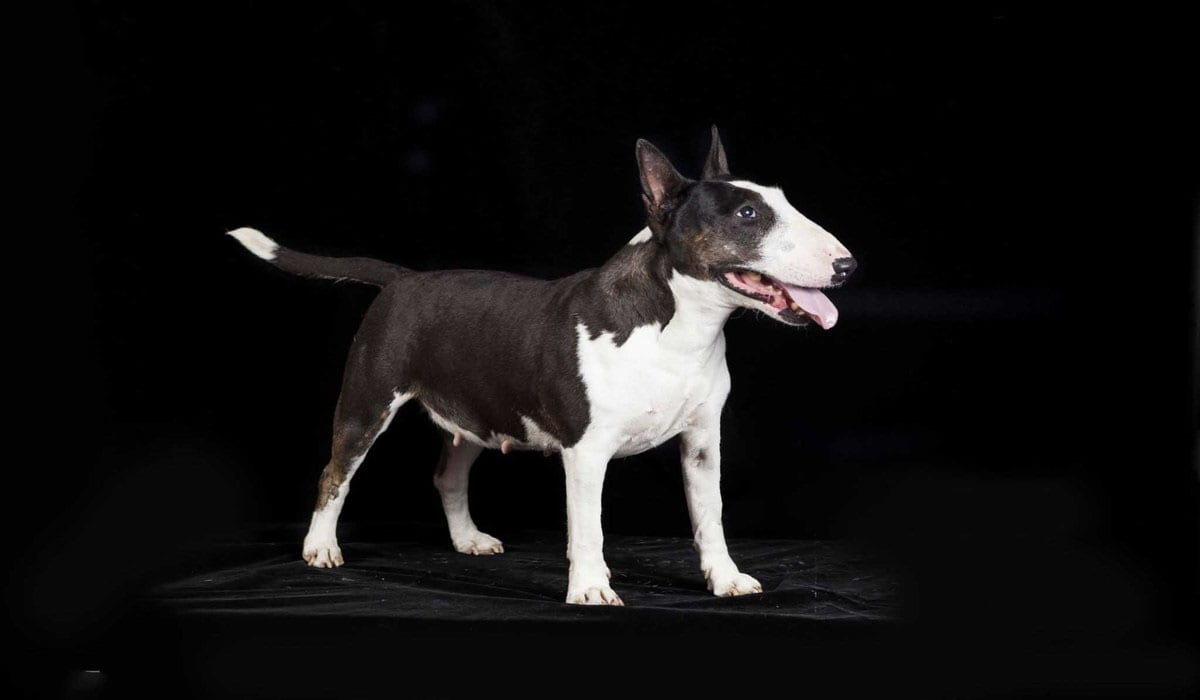bull_terrier: (221, 124, 857, 605)
